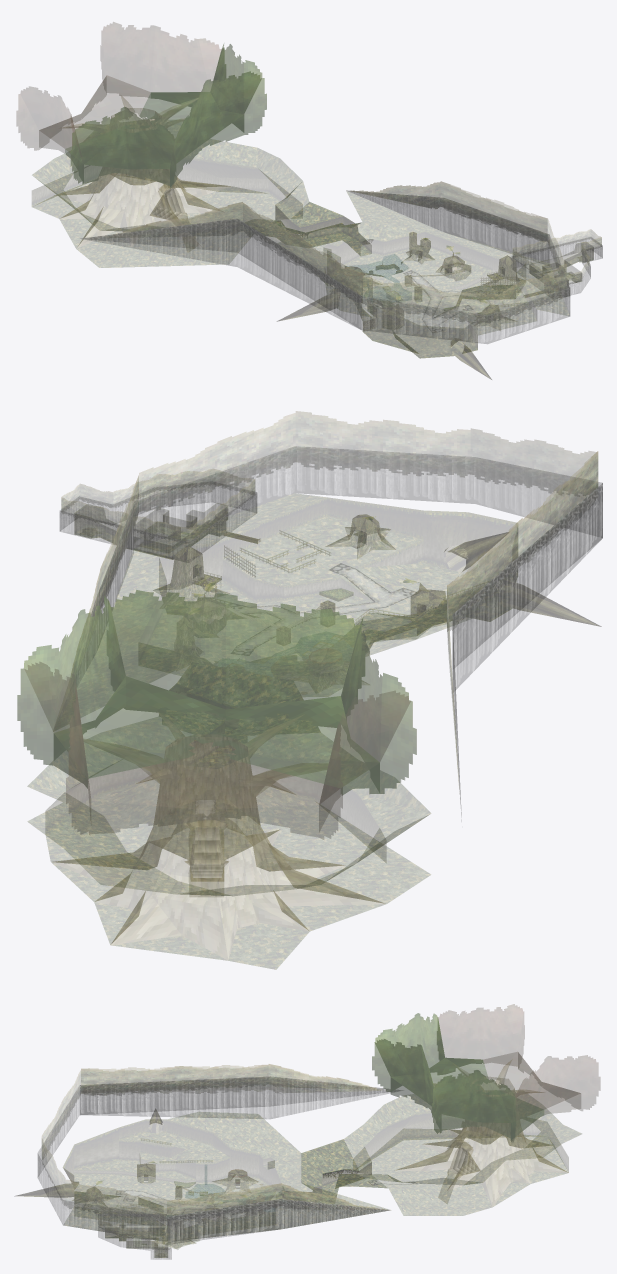
File: kokiri_forest.glb
3 views of the same model, one above another, from view 1: azimuth 30°, elevation 25°; view 2: azimuth 150°, elevation 25°; view 3: azimuth 270°, elevation 25° (orthographic). The views are drawn at different scales.
Visible parts, largest first — view 1: Kokiri Forest; view 2: Kokiri Forest; view 3: Kokiri Forest.
Boxes of the visible parts, x1,y1,x2,y2 form: Kokiri Forest: (16, 22, 602, 379); Kokiri Forest: (17, 411, 602, 969); Kokiri Forest: (16, 1004, 600, 1259).
Size of the model in its own units: 275 by 125 by 419.
44 materials, 44 textured.
